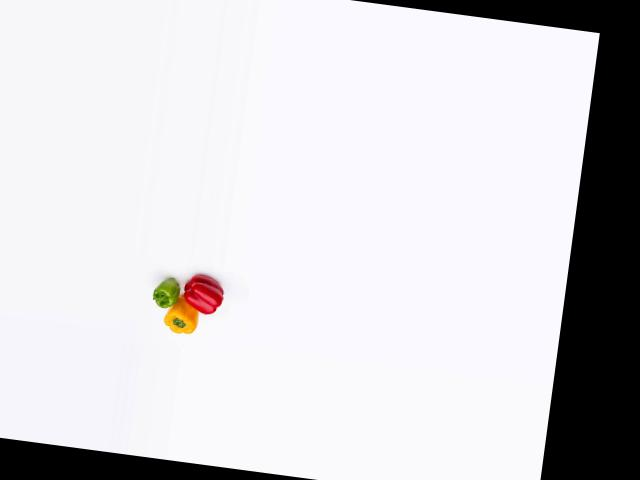bell_pepper: (144, 274, 182, 312)
